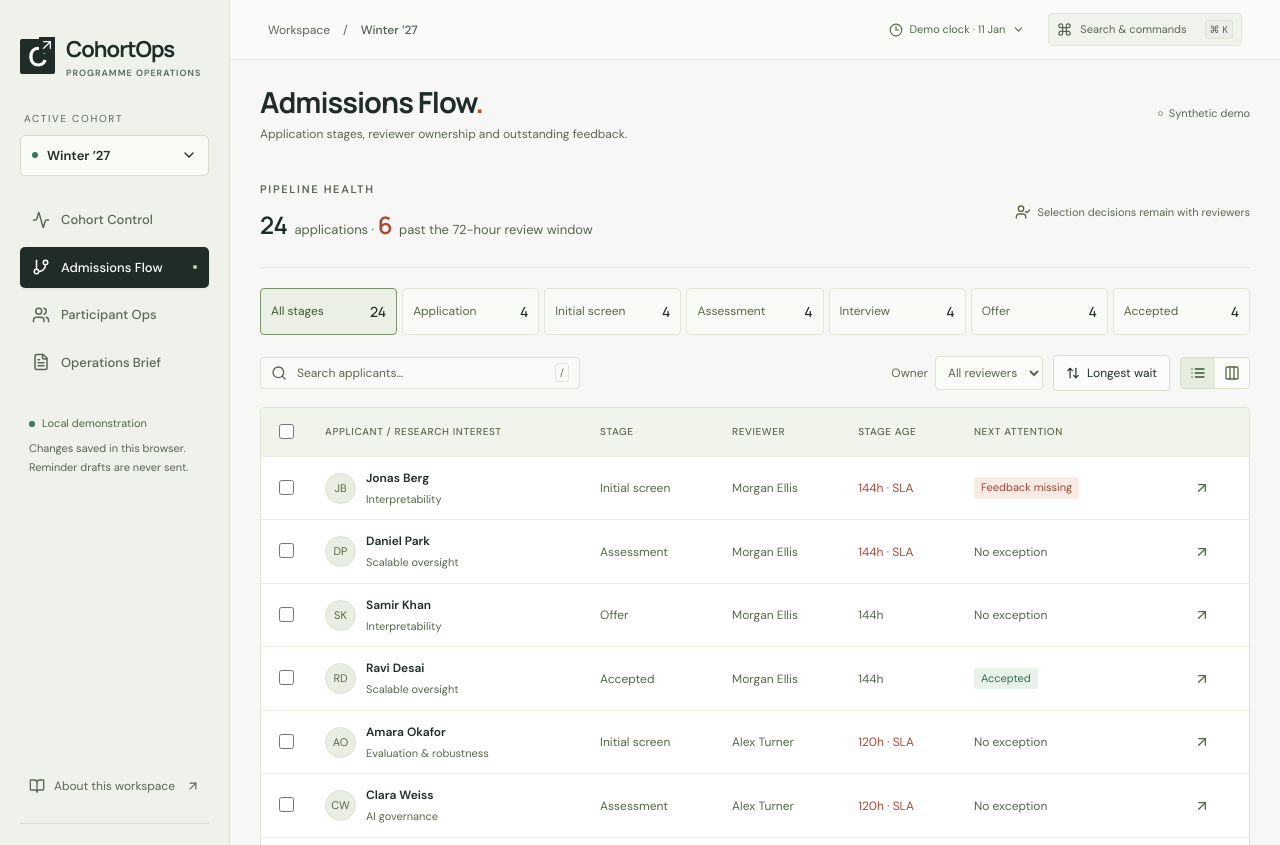
Scenario: connected operator workspaces › searches applicants and changes their stage in the inspector
Step 1. Type "Amara" into the field named "Search applicants…" → x=421, y=373, box [295,363,547,383]
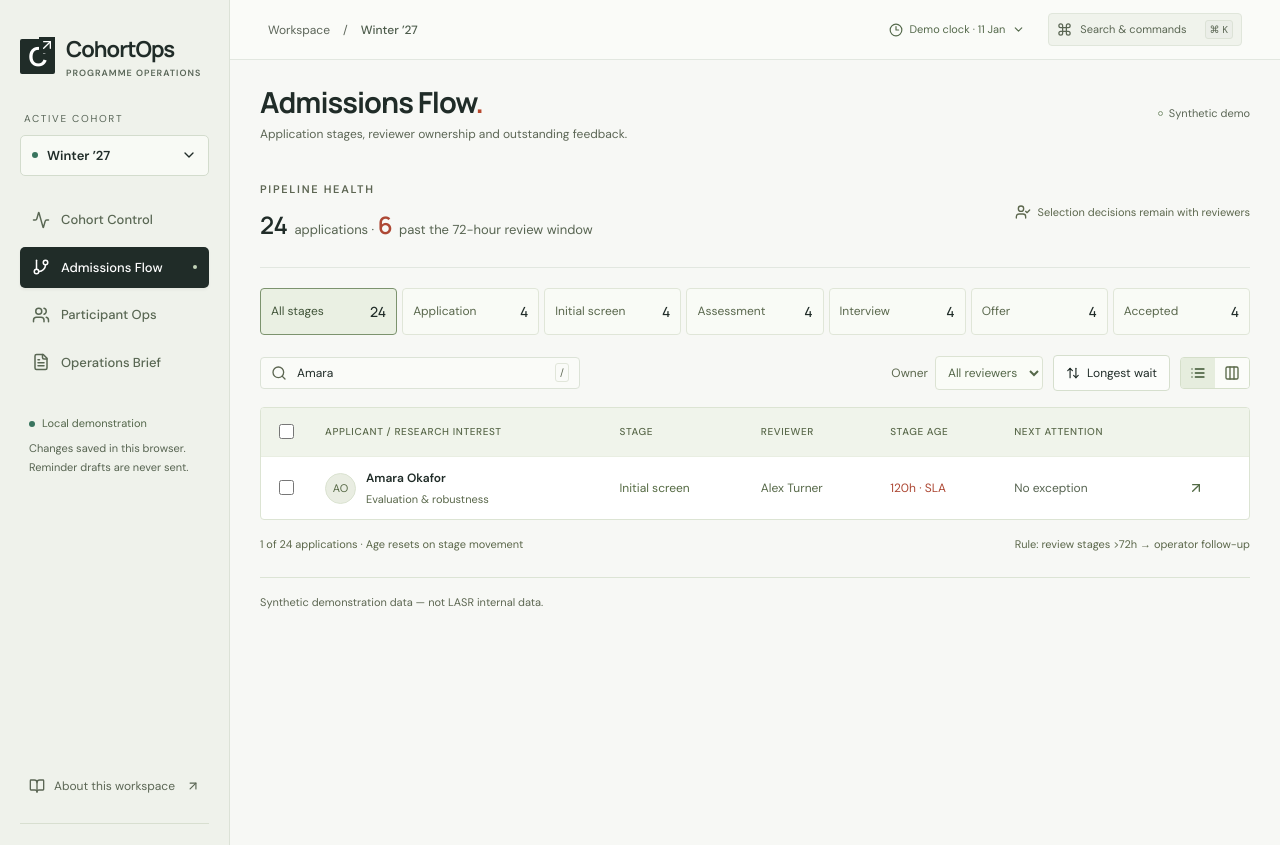
Step 2. Click the button "Amara Okafor Evaluation" → x=407, y=488, box [325,469,489,507]
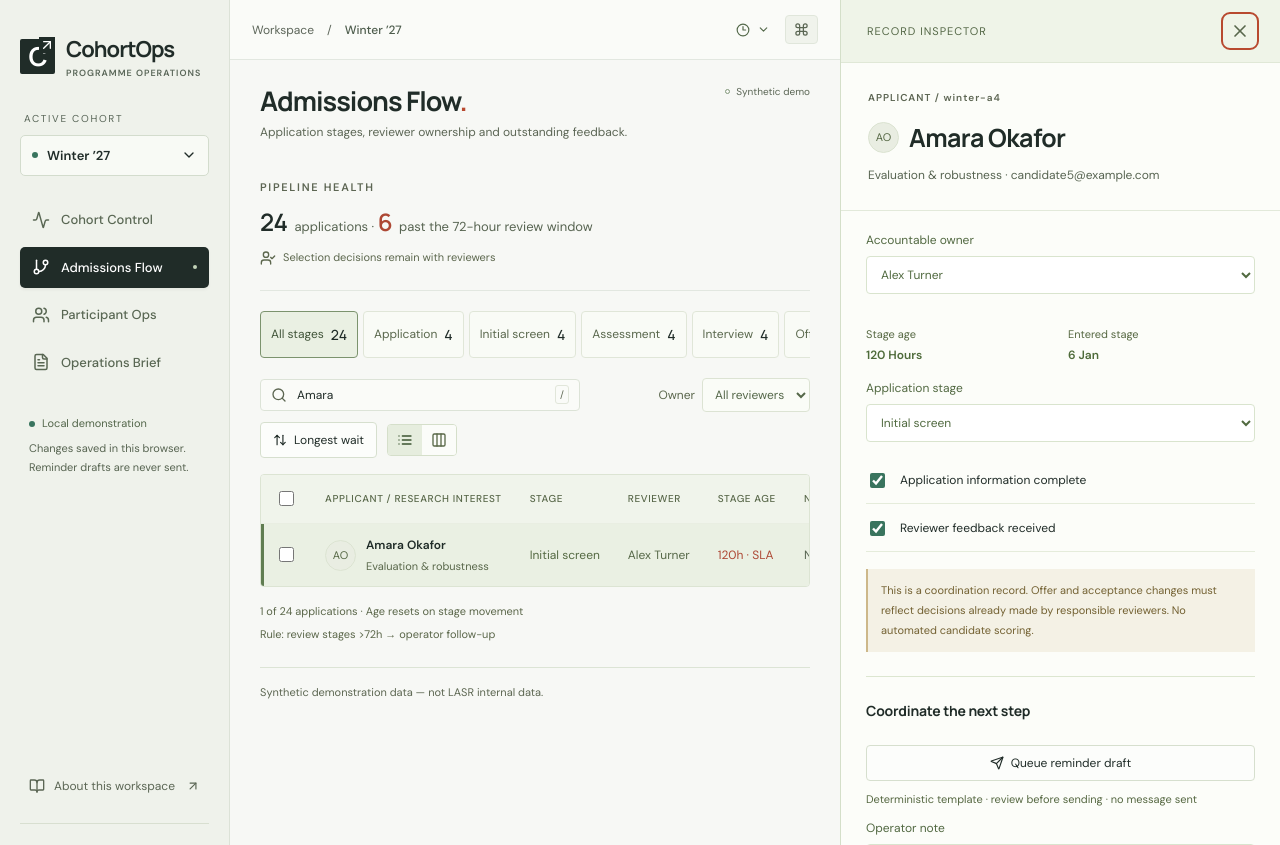
Step 3. Select "Interview" in the dropdown labelled "Application stage" → x=1060, y=423, box [866,404,1255,442]
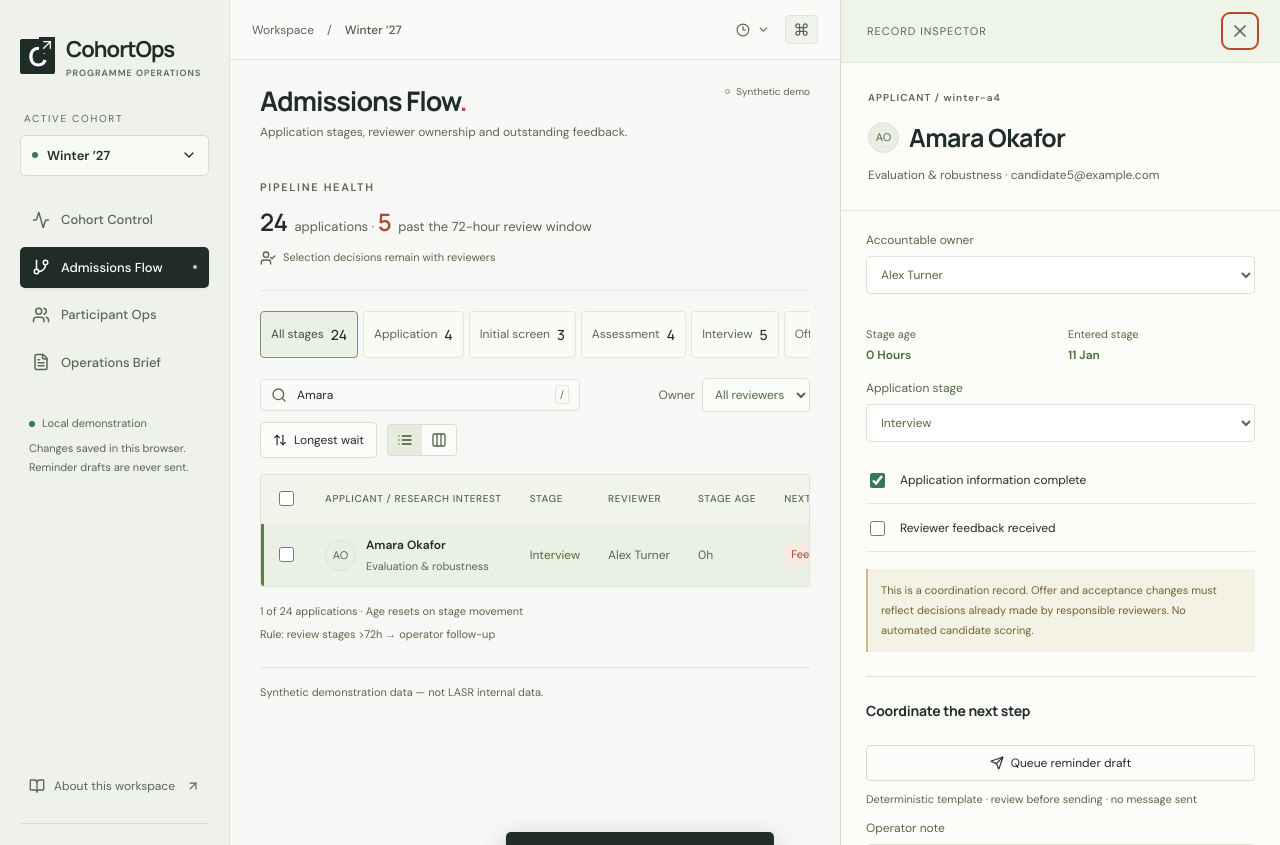
Expected: the text "0 hours" is shown, [866,347,911,363]
Expected: the text "Interview" is shown, [530,547,580,563]
